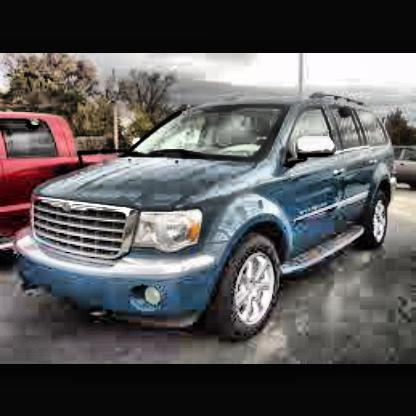Chrysler Aspen SUV 2009: (15, 98, 397, 340)
